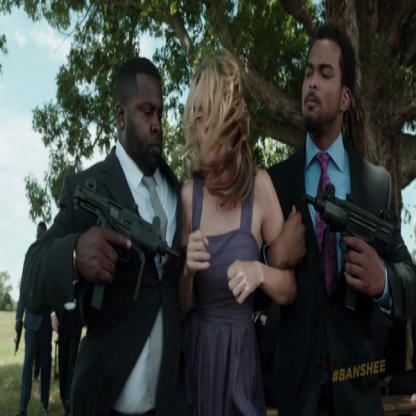Guns: (70, 174, 182, 318), (301, 180, 400, 309), (12, 318, 23, 355)
